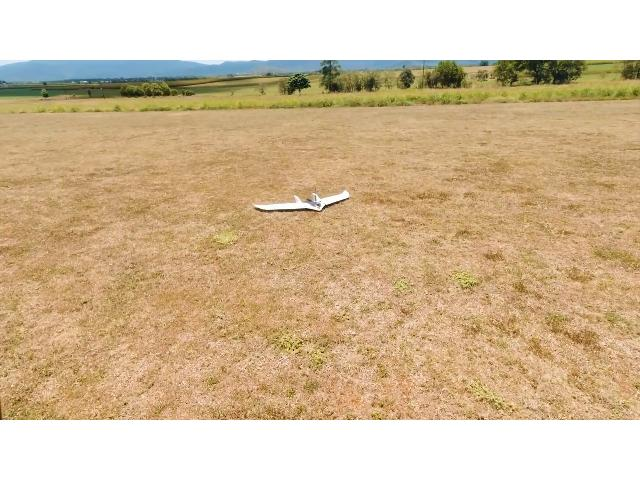Anti-Drone: (248, 168, 360, 234)
